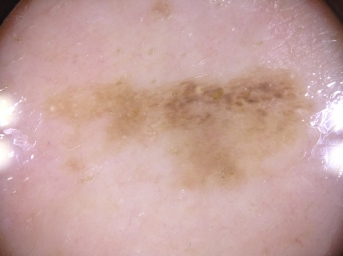seborrheic keratosis: (39, 62, 314, 205)
